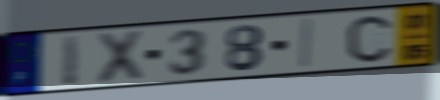3: (166, 27, 209, 77)
8: (224, 23, 266, 73)
C: (345, 14, 393, 65)
I: (61, 33, 82, 89), (298, 16, 316, 71)
X: (94, 27, 146, 86)
